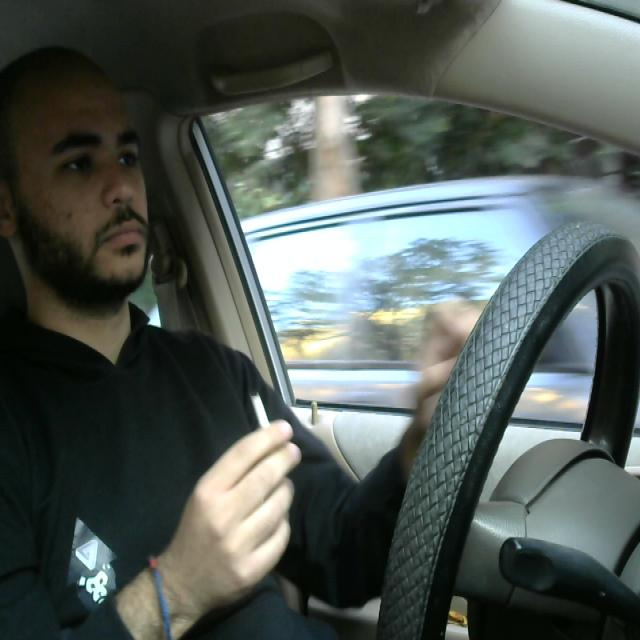smoking: (246, 391, 286, 462)
